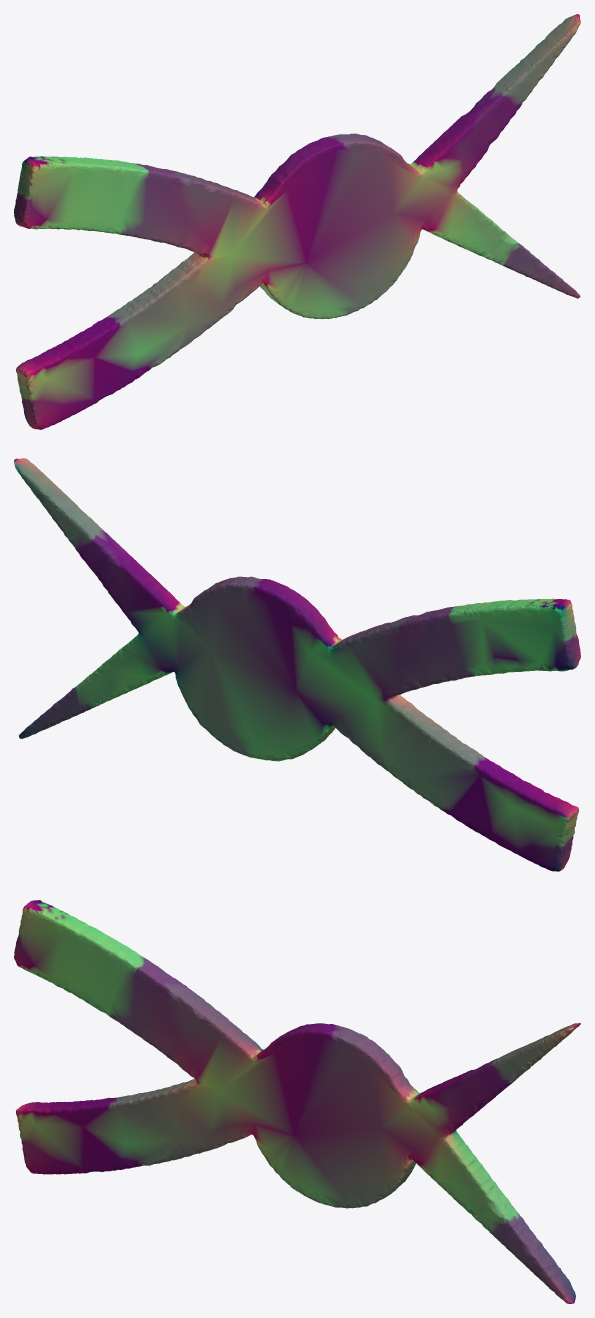
Rendered from scissor-18.off.obj.
3 renders of one model, top to bottom at view 1: azimuth 30°, elevation 25°; view 2: azimuth 150°, elevation 25°; view 3: azimuth 330°, elevation 25°, orthographic.
Size of the model in its own units: 1.51 by 0.716 by 0.0565.
